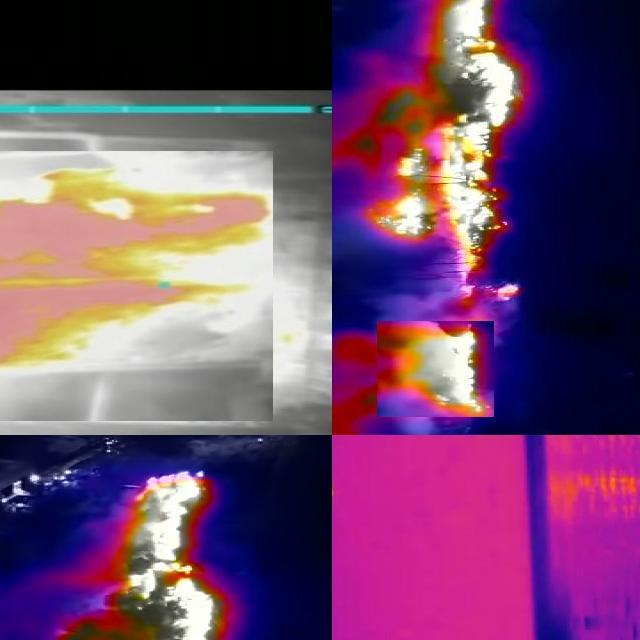fire: (1, 152, 273, 422), (360, 1, 526, 304), (31, 470, 233, 640), (377, 322, 494, 418)
